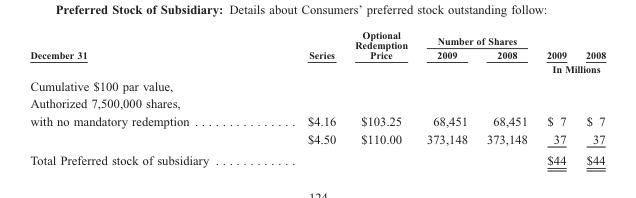table: (29, 28, 605, 166)
table column: (29, 28, 257, 166), (257, 28, 344, 166), (344, 28, 416, 166), (416, 28, 476, 166), (476, 28, 536, 166), (536, 28, 575, 166), (575, 28, 605, 166)
table column header: (29, 28, 605, 76)
table projected row header: (29, 76, 605, 94), (29, 94, 605, 111)
table row: (29, 129, 605, 149), (29, 28, 605, 47), (29, 76, 605, 94), (29, 111, 605, 129), (29, 94, 605, 111), (29, 149, 605, 166), (29, 61, 605, 76), (29, 47, 605, 61)
table spanning cell: (29, 28, 257, 76), (257, 28, 344, 76), (344, 28, 416, 76), (416, 28, 536, 47), (416, 47, 476, 76), (476, 47, 536, 76), (536, 28, 575, 61), (536, 61, 605, 76), (575, 28, 605, 61)
